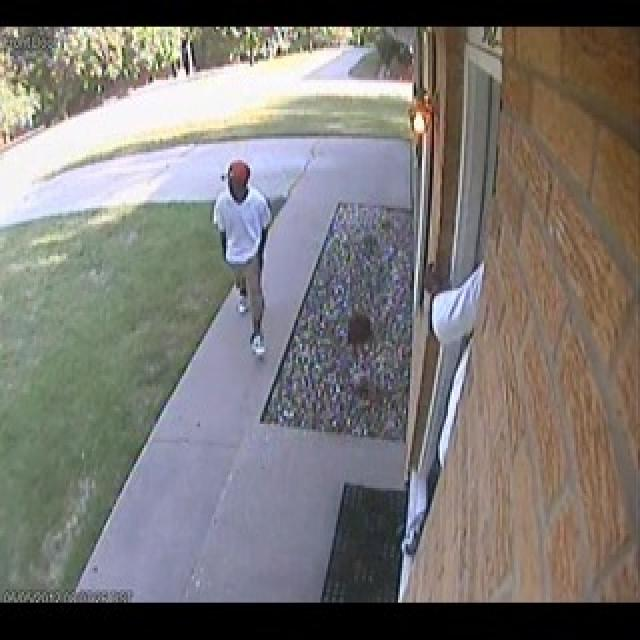burglary: (389, 224, 494, 517)
